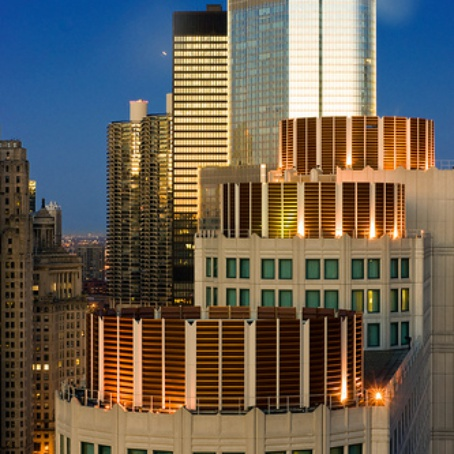building: (198, 183, 427, 392), (75, 304, 376, 454), (265, 122, 454, 337), (230, 1, 383, 174), (169, 9, 230, 317), (28, 210, 87, 447), (1, 136, 33, 454), (139, 111, 173, 308), (105, 121, 139, 305)
sky: (1, 2, 169, 224), (380, 1, 454, 111)
